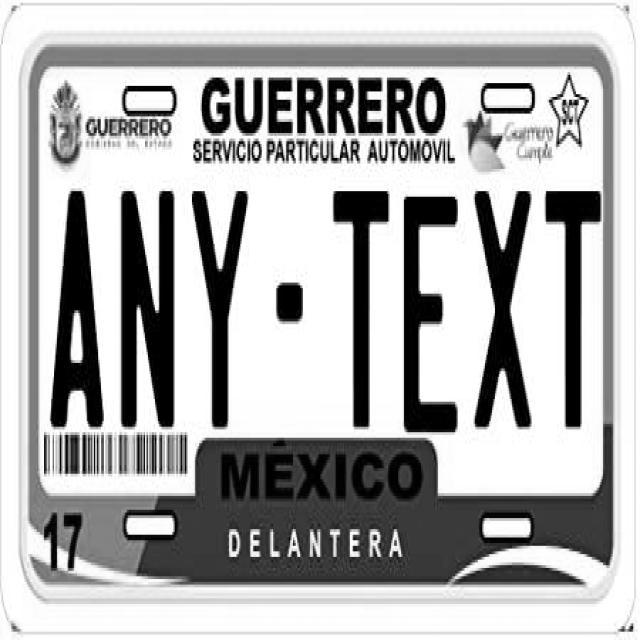plate: (27, 47, 614, 590)
